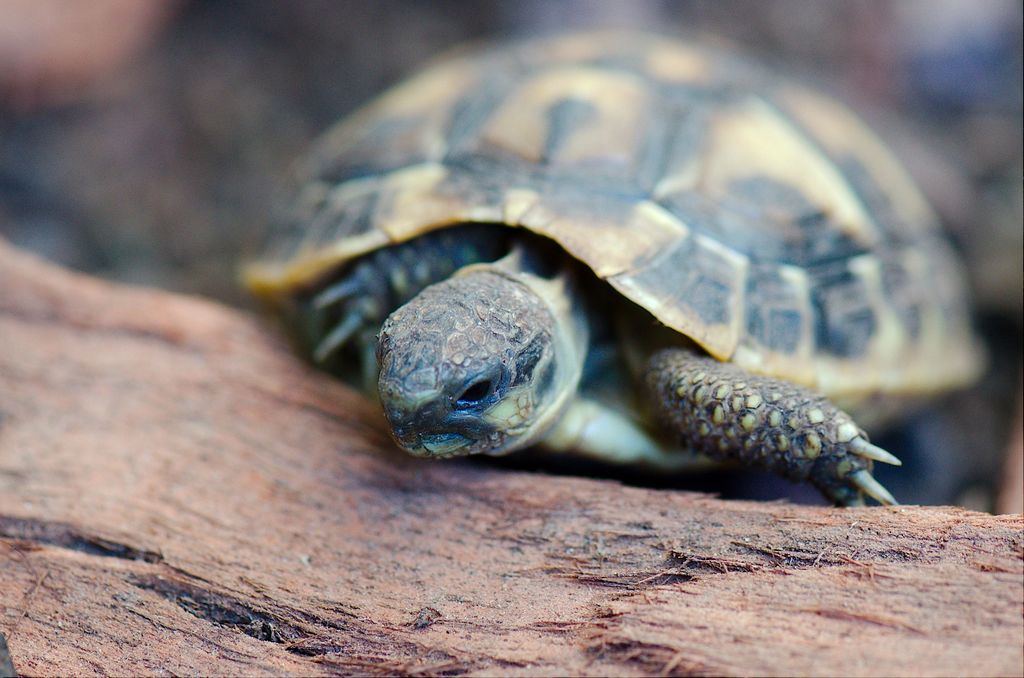Sea turtles: (232, 29, 991, 509)
